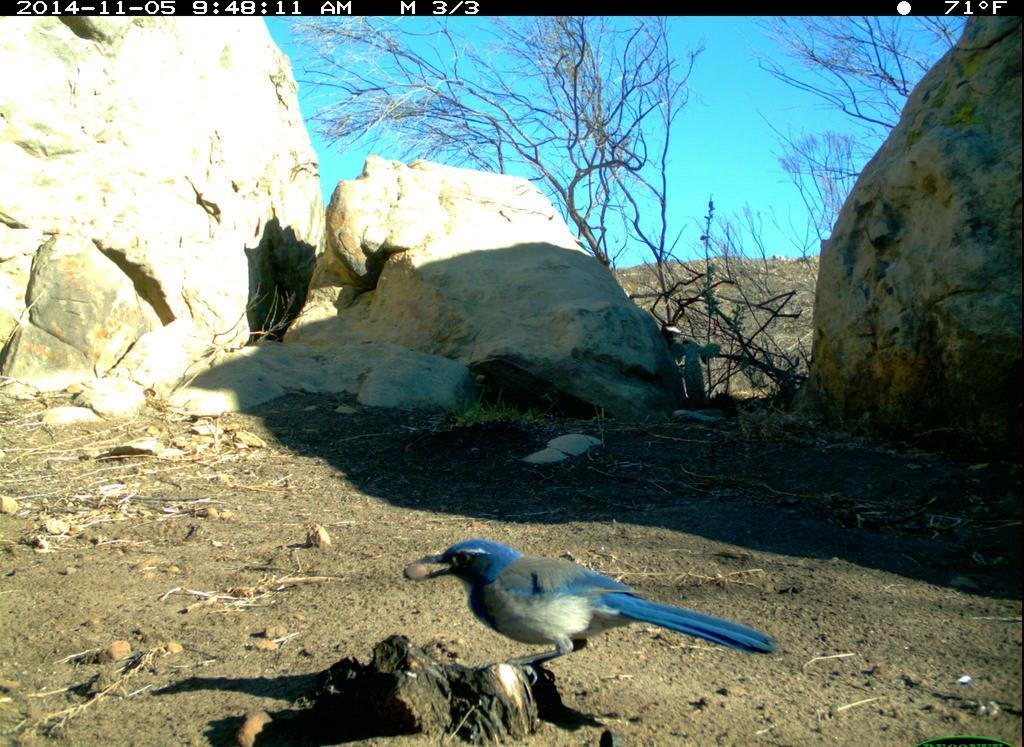bird: (401, 530, 781, 719)
